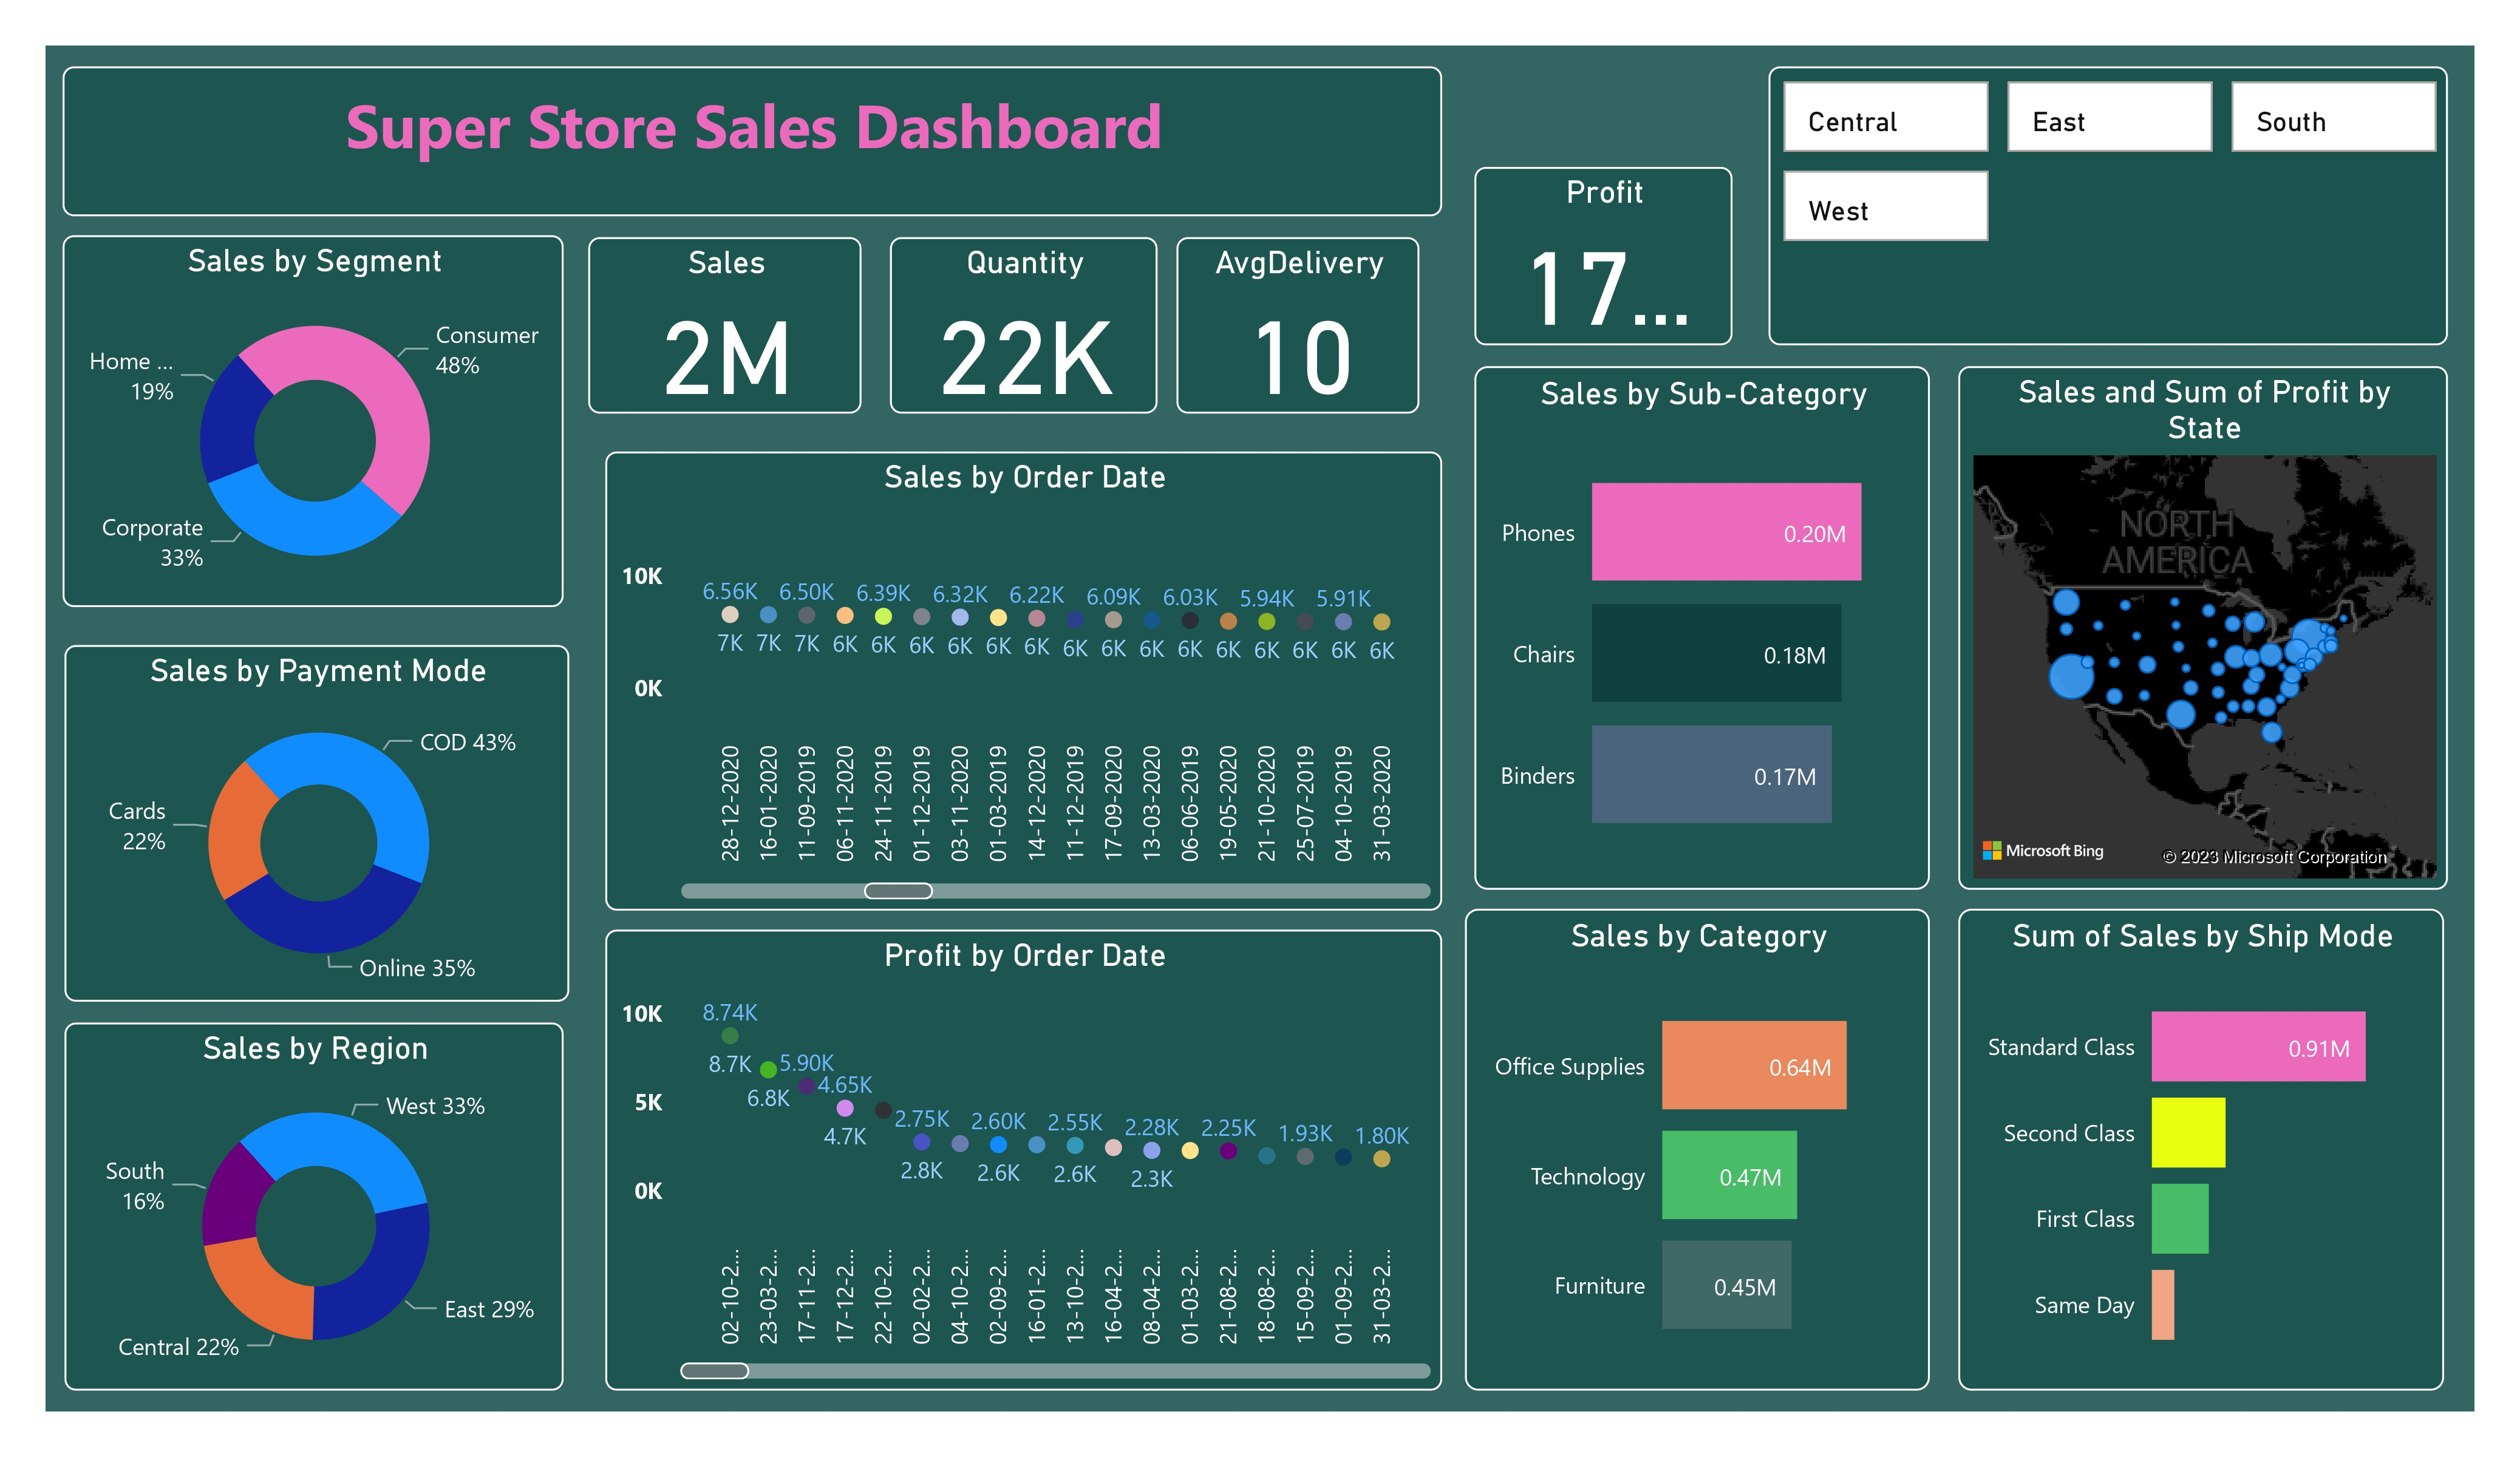

This screenshot's page, from the dashboard's own definition file:
{"tool":"powerbi","page":{"name":"Page 1","canvas":[1280,720],"ordinal":0},"visuals":[{"type":"clusteredBarChart","title":"Sales by Category","fields":{"Category":["SuperStore_Sales_Dataset.Category"],"Y":["Sum(SuperStore_Sales_Dataset.Sales)"]},"box":[747.5,455,245,253.8],"z":0},{"type":"clusteredBarChart","title":"Sales by Sub-Category","fields":{"Category":["SuperStore_Sales_Dataset.Sub-Category"],"Y":["Sum(SuperStore_Sales_Dataset.Sales)"]},"box":[752.5,168.8,240,276.2],"z":1000},{"type":"clusteredBarChart","fields":{"Category":["SuperStore_Sales_Dataset.Ship Mode","SuperStore_Sales_Dataset.Category"],"Y":["Sum(SuperStore_Sales_Dataset.Sales)"]},"box":[1007.5,455,256.2,253.8],"z":2000},{"type":"stackedAreaChart","title":"Sales by Order Date ","fields":{"Y":["Sum(SuperStore_Sales_Dataset.Sales)"],"Series":["SuperStore_Sales_Dataset.Order Date (groups)"],"Category":["SuperStore_Sales_Dataset.Order Date (groups)"]},"box":[295,213.8,441.2,242.5],"z":3000},{"type":"stackedAreaChart","title":" Profit by Order Date ","fields":{"Series":["SuperStore_Sales_Dataset.Order Date (groups)"],"Category":["SuperStore_Sales_Dataset.Order Date (groups)"],"Y":["Sum(SuperStore_Sales_Dataset.Profit)"]},"box":[295,466.2,441.2,242.5],"z":4000},{"type":"map","title":" Sales and Sum of Profit by State","fields":{"Category":["SuperStore_Sales_Dataset.State"],"Size":["Sum(SuperStore_Sales_Dataset.Sales)"]},"box":[1007.5,168.8,258.8,276.2],"z":5000},{"type":"donutChart","title":" Sales by Segment","fields":{"Category":["SuperStore_Sales_Dataset.Segment"],"Y":["Sum(SuperStore_Sales_Dataset.Sales)"]},"box":[8.8,100,263.8,196.2],"z":6000},{"type":"donutChart","title":"Sales by Payment Mode","fields":{"Y":["Sum(SuperStore_Sales_Dataset.Sales)"],"Category":["SuperStore_Sales_Dataset.Payment Mode"]},"box":[10,316.2,266.2,187.5],"z":7000},{"type":"donutChart","title":"Sales by Region","fields":{"Y":["Sum(SuperStore_Sales_Dataset.Sales)"],"Category":["SuperStore_Sales_Dataset.Region"]},"box":[10,515,262.5,193.8],"z":8000},{"type":"advancedSlicerVisual","fields":{"Values":["SuperStore_Sales_Dataset.Region"]},"box":[907.5,11.2,358.8,146.2],"z":9000},{"type":"textbox","box":[8.8,11.2,727.5,78.8],"z":10000},{"type":"card","title":"Sales","fields":{"Values":["Sum(SuperStore_Sales_Dataset.Sales)"]},"box":[286.2,101.2,143.8,92.5],"z":11000},{"type":"card","title":"Quantity","fields":{"Values":["Sum(SuperStore_Sales_Dataset.Quantity)"]},"box":[445,101.2,141.2,92.5],"z":12000},{"type":"card","title":"Profit","fields":{"Values":["Sum(SuperStore_Sales_Dataset.Profit)"]},"box":[752.5,63.8,136.2,93.8],"z":12001},{"type":"card","title":"AvgDelivery","fields":{"Values":["Avg(SuperStore_Sales_Dataset.AvgDelivary)"]},"box":[596.2,101.2,127.5,92.5],"z":12002}]}

Visuals, with their boxes in screenshot pixels (x1, y1, x2, y2):
"Sales by Category" clusteredBarChart: (x1=1464, y1=909, x2=1929, y2=1390)
"Sales by Sub-Category" clusteredBarChart: (x1=1474, y1=365, x2=1929, y2=890)
clusteredBarChart - SuperStore_Sales_Dataset.Ship Mode x SuperStore_Sales_Dataset.Category: (x1=1957, y1=909, x2=2443, y2=1390)
"Sales by Order Date " stackedAreaChart: (x1=605, y1=451, x2=1443, y2=911)
" Profit by Order Date " stackedAreaChart: (x1=605, y1=930, x2=1443, y2=1390)
" Sales and Sum of Profit by State" map: (x1=1957, y1=365, x2=2448, y2=890)
" Sales by Segment" donutChart: (x1=62, y1=236, x2=563, y2=608)
"Sales by Payment Mode" donutChart: (x1=64, y1=645, x2=570, y2=1001)
"Sales by Region" donutChart: (x1=64, y1=1022, x2=563, y2=1390)
advancedSlicerVisual - SuperStore_Sales_Dataset.Region: (x1=1768, y1=67, x2=2448, y2=344)
textbox: (x1=62, y1=67, x2=1443, y2=216)
"Sales" card: (x1=588, y1=237, x2=862, y2=413)
"Quantity" card: (x1=890, y1=237, x2=1158, y2=413)
"Profit" card: (x1=1474, y1=166, x2=1732, y2=345)
"AvgDelivery" card: (x1=1177, y1=237, x2=1419, y2=413)
